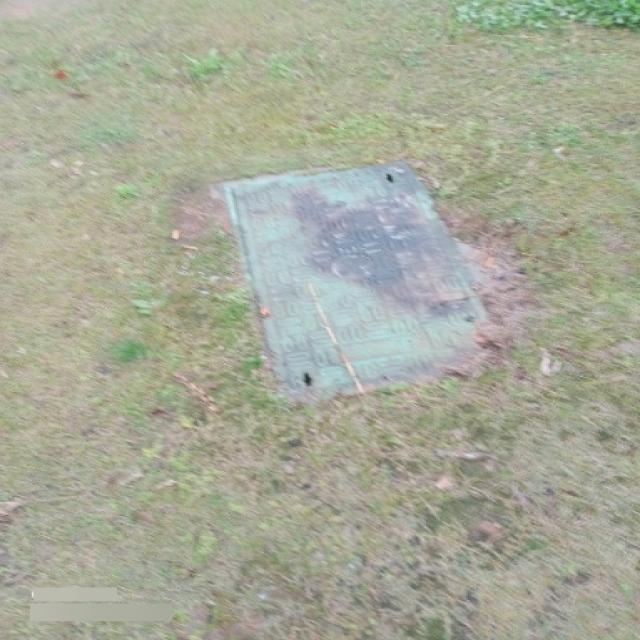Good: (188, 158, 514, 400)
